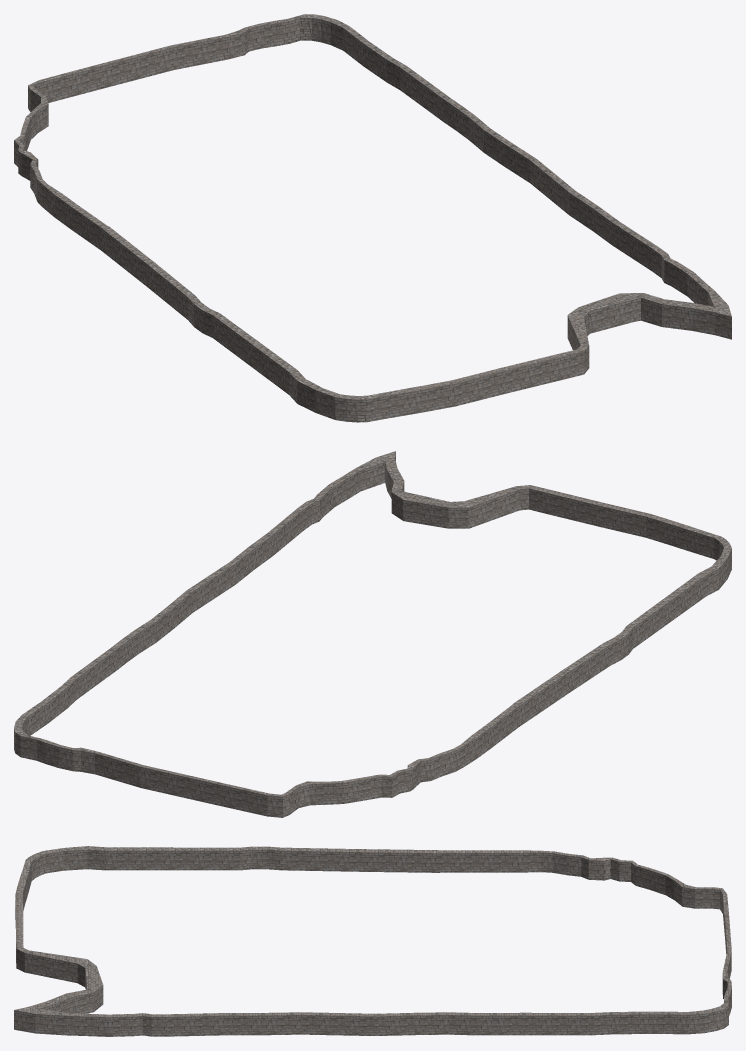
Rendered from OuterEdge_LevelB.fbx.
3 views of the same model, one above another, from view 1: azimuth 30°, elevation 25°; view 2: azimuth 150°, elevation 25°; view 3: azimuth 270°, elevation 25° (orthographic). The views are drawn at different scales.
Parts seen in each view (by area): view 1: OuterEdge; view 2: OuterEdge; view 3: OuterEdge.
Boxes of the visible parts, bbox=[...] form: OuterEdge: bbox=[14, 14, 731, 422]; OuterEdge: bbox=[14, 451, 731, 817]; OuterEdge: bbox=[14, 846, 731, 1036].
Bounding box in the file's own units: 5593 × 305 × 9912.
1 material, 1 textured.
